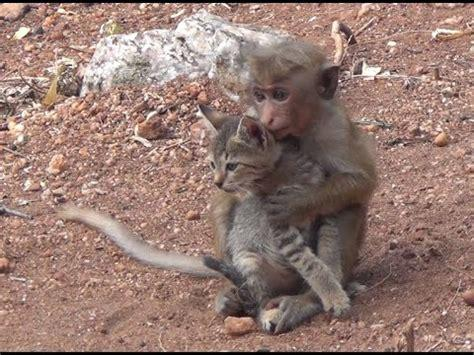cat: (197, 102, 351, 333)
monkey: (59, 42, 373, 333)
